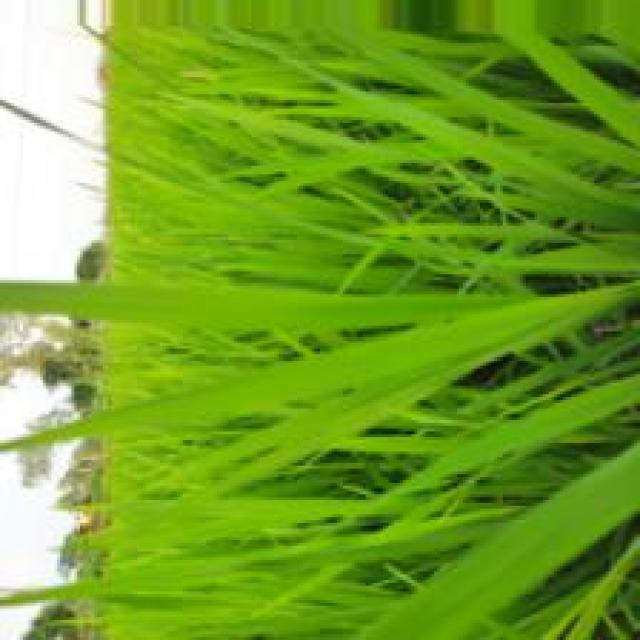HealthyLeaf: (232, 330, 431, 408), (195, 292, 286, 328), (495, 405, 566, 448)
